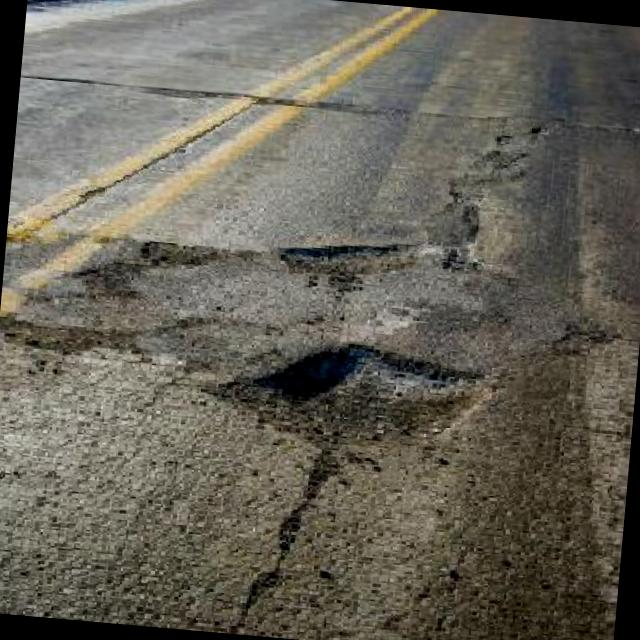Lubang: (205, 344, 481, 446), (278, 242, 417, 281), (2, 318, 142, 354), (122, 242, 227, 265)
